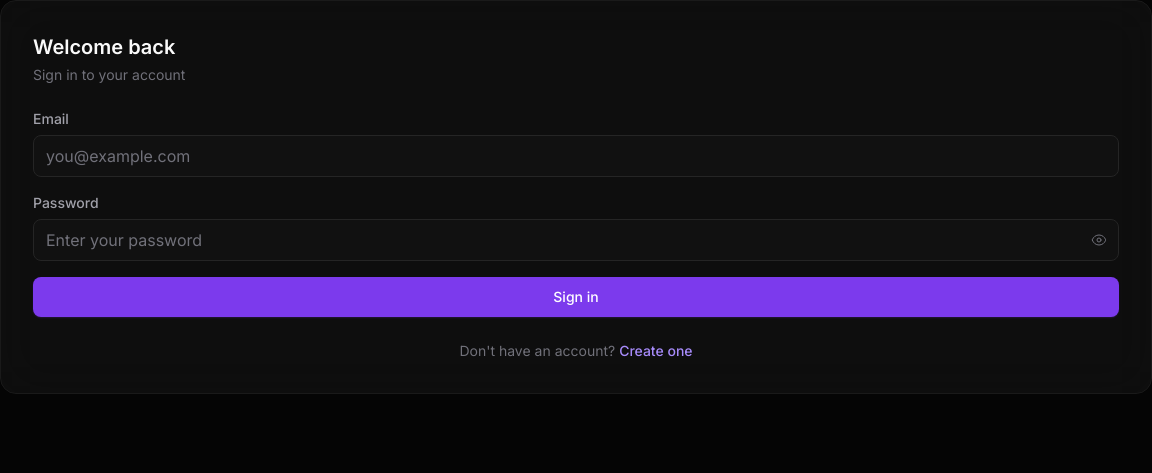
Test case: LoginPage › shows error message on login failure
Type "test@example.com" into the field with placeholder "you@example.com".
click(576, 156); type("test@example.com")  # box [33,135,1119,177]
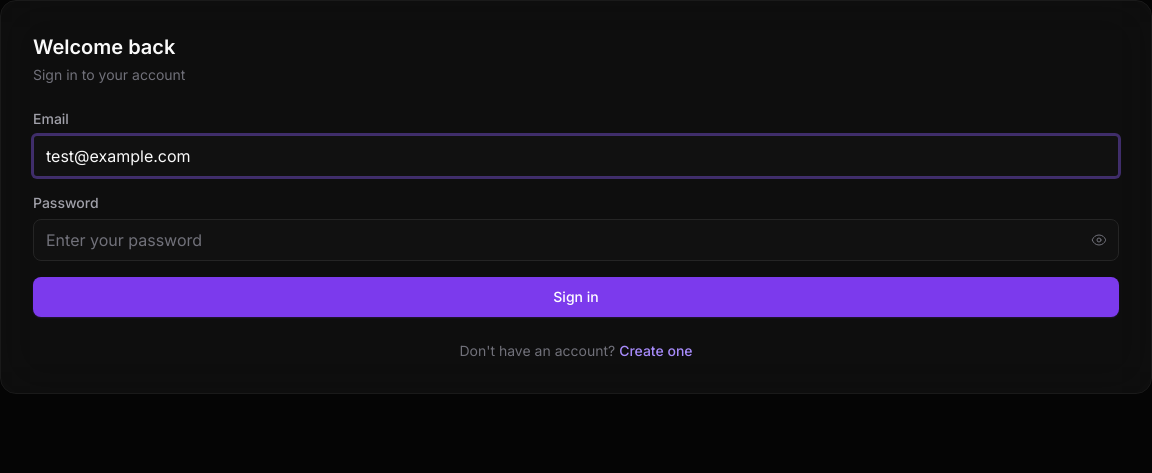
Type "wrongpassword" into the password field with placeholder "Enter your password".
click(576, 240); type("wrongpassword")  # box [33,219,1119,261]
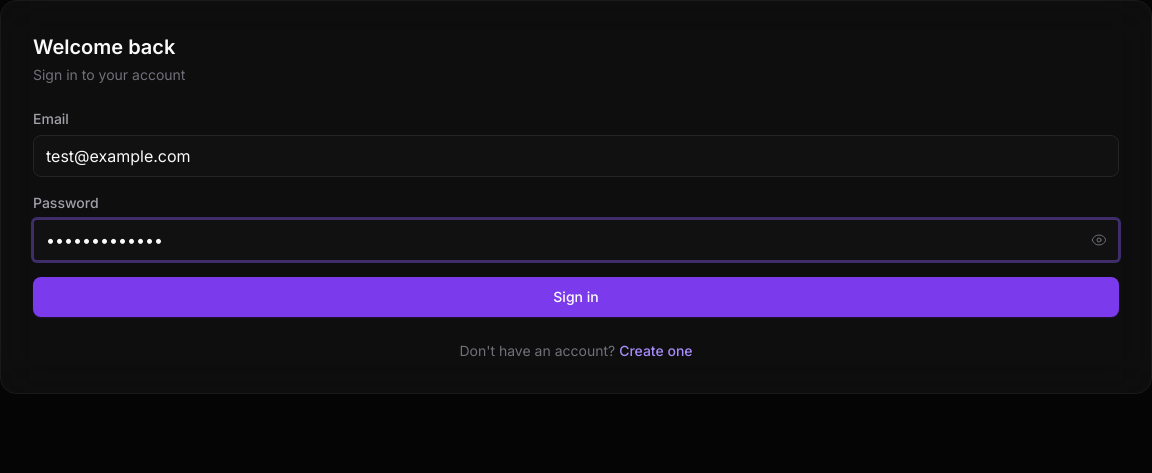
Click the button "Sign in".
click(576, 297)  # box [33,277,1119,317]
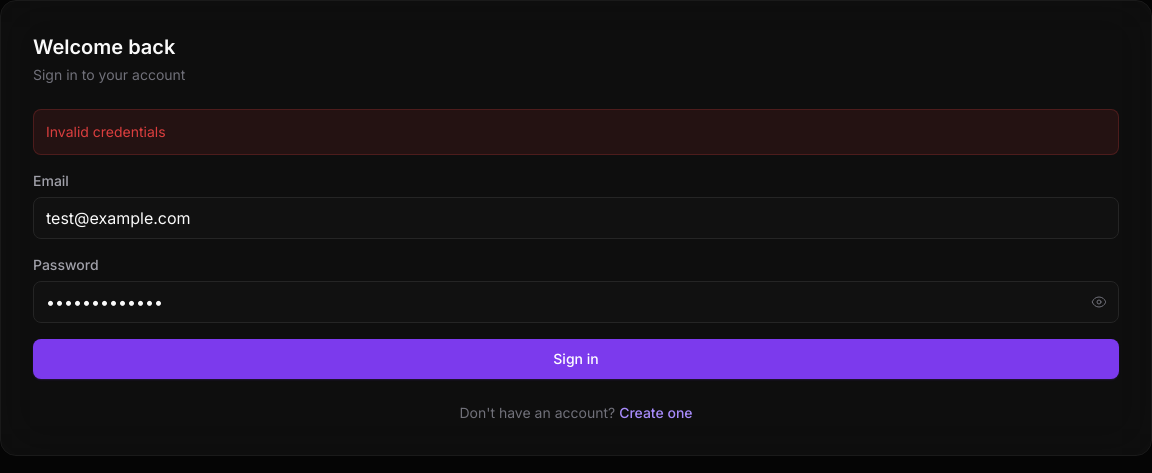
Check: the text "Invalid credentials" is shown, box [33,109,1119,155]
